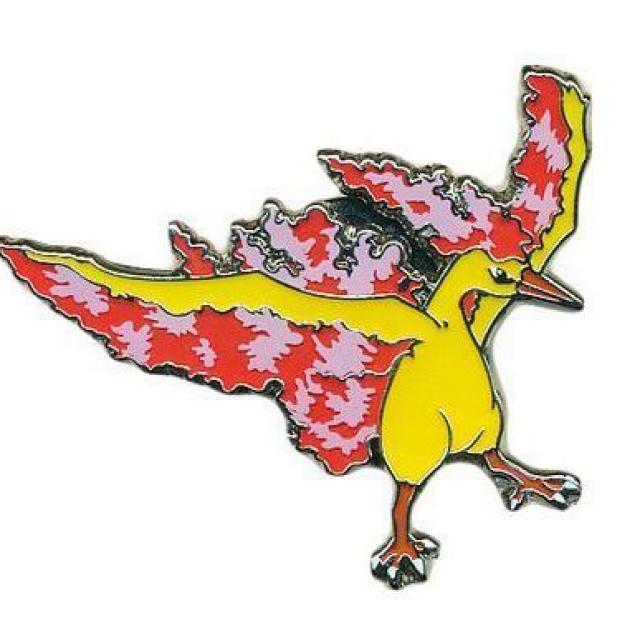Moltres: (258, 126, 593, 588)
